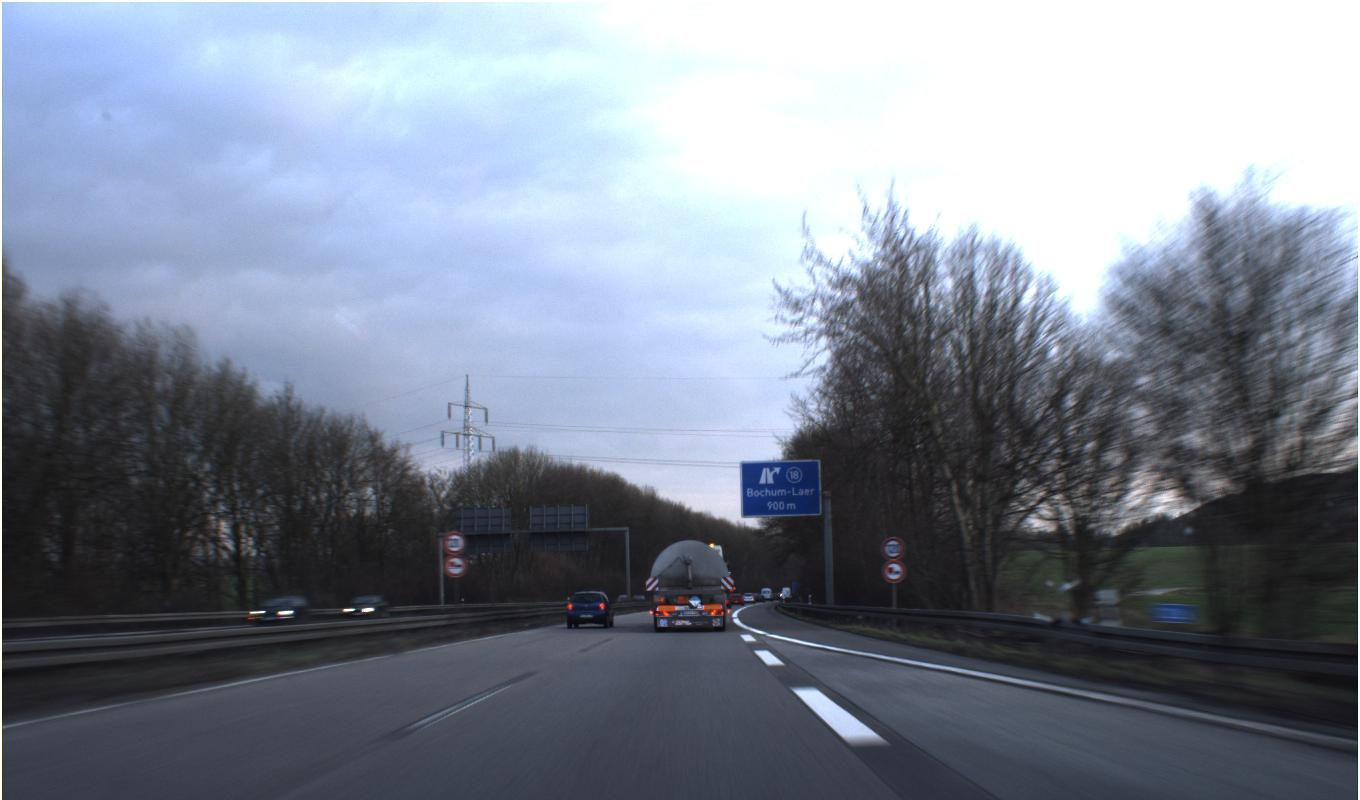prohibitory: (880, 558, 907, 584), (442, 553, 468, 578), (440, 531, 467, 554), (880, 536, 904, 559)
